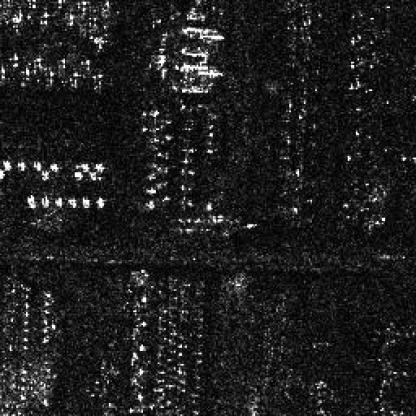airplane: (89, 73, 104, 89), (8, 10, 24, 24), (18, 67, 32, 83), (44, 67, 58, 81), (67, 72, 81, 86), (57, 55, 70, 70), (74, 0, 88, 13), (6, 52, 20, 65), (31, 56, 45, 68), (81, 58, 93, 72), (40, 10, 50, 24), (94, 197, 106, 208), (65, 13, 75, 26), (26, 195, 37, 206), (55, 0, 70, 8), (39, 195, 49, 206), (66, 198, 76, 208), (81, 198, 91, 208), (71, 170, 83, 178), (1, 158, 10, 168), (80, 162, 90, 171), (92, 162, 102, 171), (87, 172, 98, 180), (28, 0, 38, 8), (32, 159, 40, 169), (49, 161, 57, 171), (54, 196, 62, 206), (16, 161, 24, 169), (41, 169, 47, 179)
